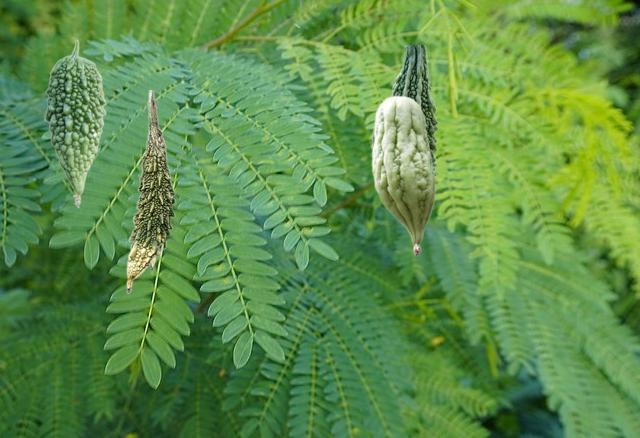ampalaya: (44, 39, 105, 207), (371, 95, 435, 255), (126, 90, 175, 293), (391, 45, 437, 176)
